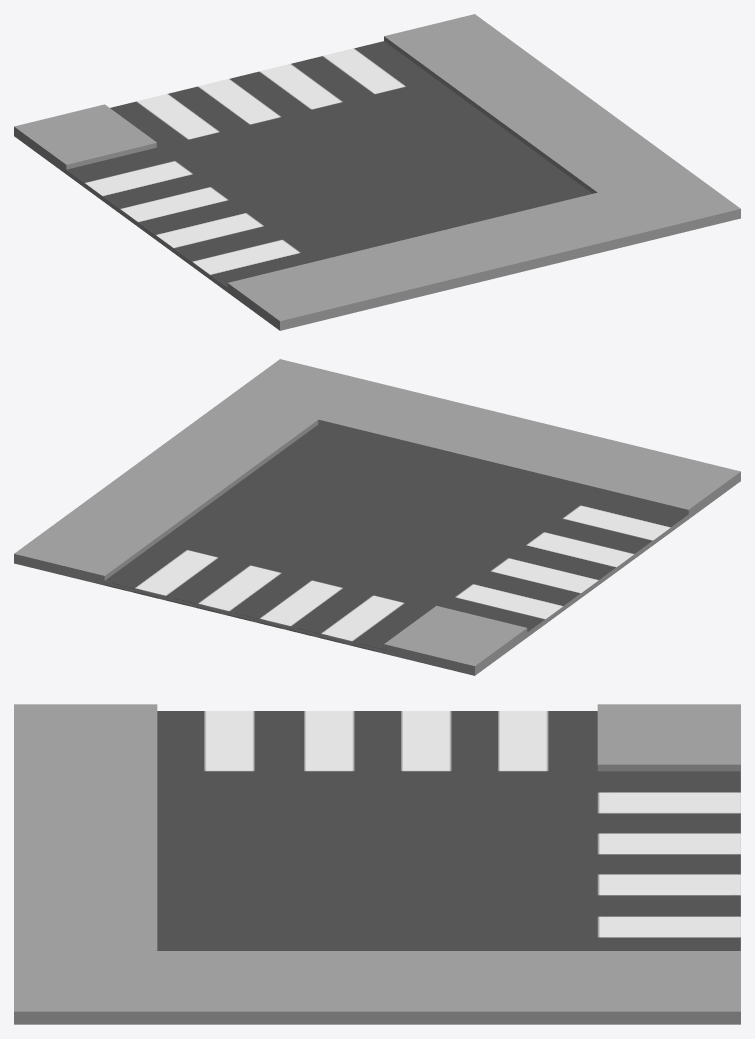
Rendered from RoadModule04.glb.
3 views of the same model, one above another, from view 1: azimuth 30°, elevation 25°; view 2: azimuth 150°, elevation 25°; view 3: azimuth 270°, elevation 25° (orthographic). The views are drawn at different scales.
Parts seen in each view (by area): view 1: RoadModule04; view 2: RoadModule04; view 3: RoadModule04.
Part boxes in pixels (x1=…): RoadModule04: x1=14, y1=14, x2=740, y2=330; RoadModule04: x1=14, y1=359, x2=740, y2=675; RoadModule04: x1=14, y1=704, x2=740, y2=1024.
Size of what is drawn, in the model's own units: 10 by 0.2001 by 10.
Materials: 1 (1 with a texture image).
